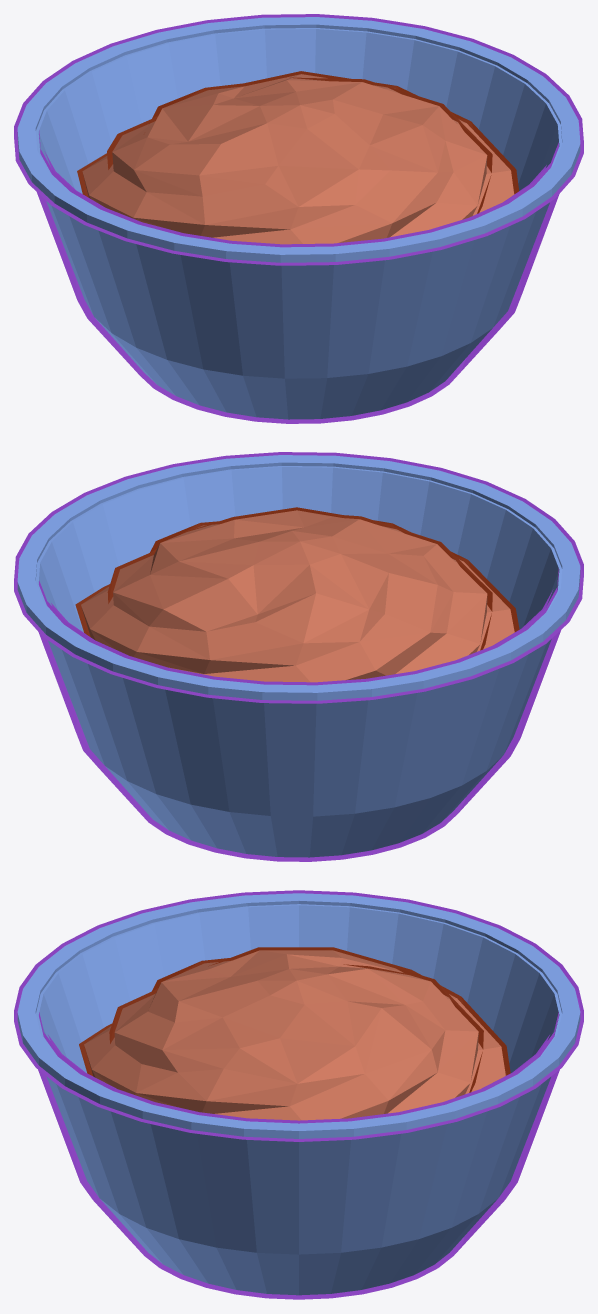
Rendered from massa de chocolate.glb.
3 renders of one model, top to bottom at view 1: azimuth 30°, elevation 25°; view 2: azimuth 150°, elevation 25°; view 3: azimuth 270°, elevation 25°, orthographic.
Parts seen in each view (by area): view 1: Cylinder.001, chantilly.002, Cylinder.002; view 2: Cylinder.001, chantilly.002, Cylinder.002; view 3: Cylinder.001, chantilly.002, Cylinder.002.
Boxes of the visible parts, x1,y1,x2,y2 form: Cylinder.001: (35,28,562,423); chantilly.002: (77,71,518,244); Cylinder.002: (14,14,583,265); Cylinder.001: (35,466,562,861); chantilly.002: (75,507,519,682); Cylinder.002: (14,452,583,703); Cylinder.001: (36,904,561,1299); chantilly.002: (79,947,510,1120); Cylinder.002: (14,890,583,1141).
Bounding box in the file's own units: 21.41 × 10.38 × 21.41.
